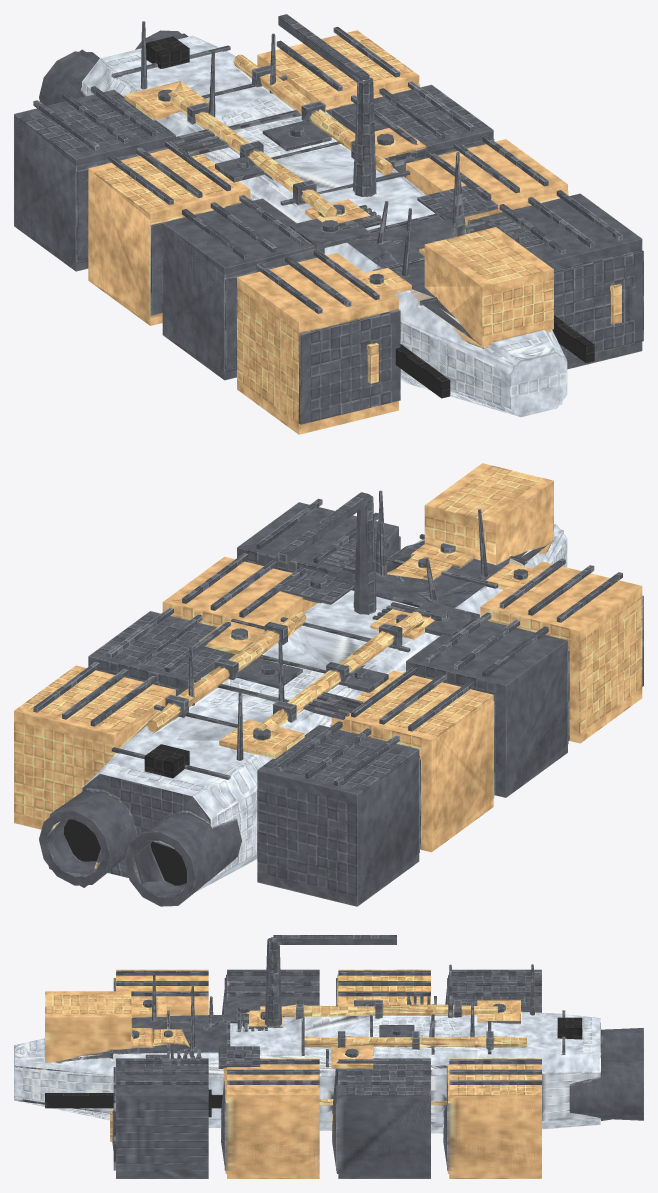
Rendered from sd_npc_cargo.glb.
3 views of the same model, one above another, from view 1: azimuth 30°, elevation 25°; view 2: azimuth 150°, elevation 25°; view 3: azimuth 270°, elevation 25° (orthographic). The views are drawn at different scales.
Parts seen in each view (by area): view 1: LOD0_body, LOD1_body; view 2: LOD0_body, LOD1_body; view 3: LOD0_body, LOD1_body.
Part boxes in pixels (left/top/right/bottom): LOD0_body: left=14, top=14, right=643, bottom=434; LOD1_body: left=14, top=33, right=642, bottom=434; LOD0_body: left=14, top=463, right=643, bottom=906; LOD1_body: left=14, top=463, right=642, bottom=905; LOD0_body: left=14, top=935, right=643, bottom=1178; LOD1_body: left=14, top=937, right=643, bottom=1178.
Size of the model in its own units: 0.4706 by 0.3147 by 1.
1 material, 1 textured.
